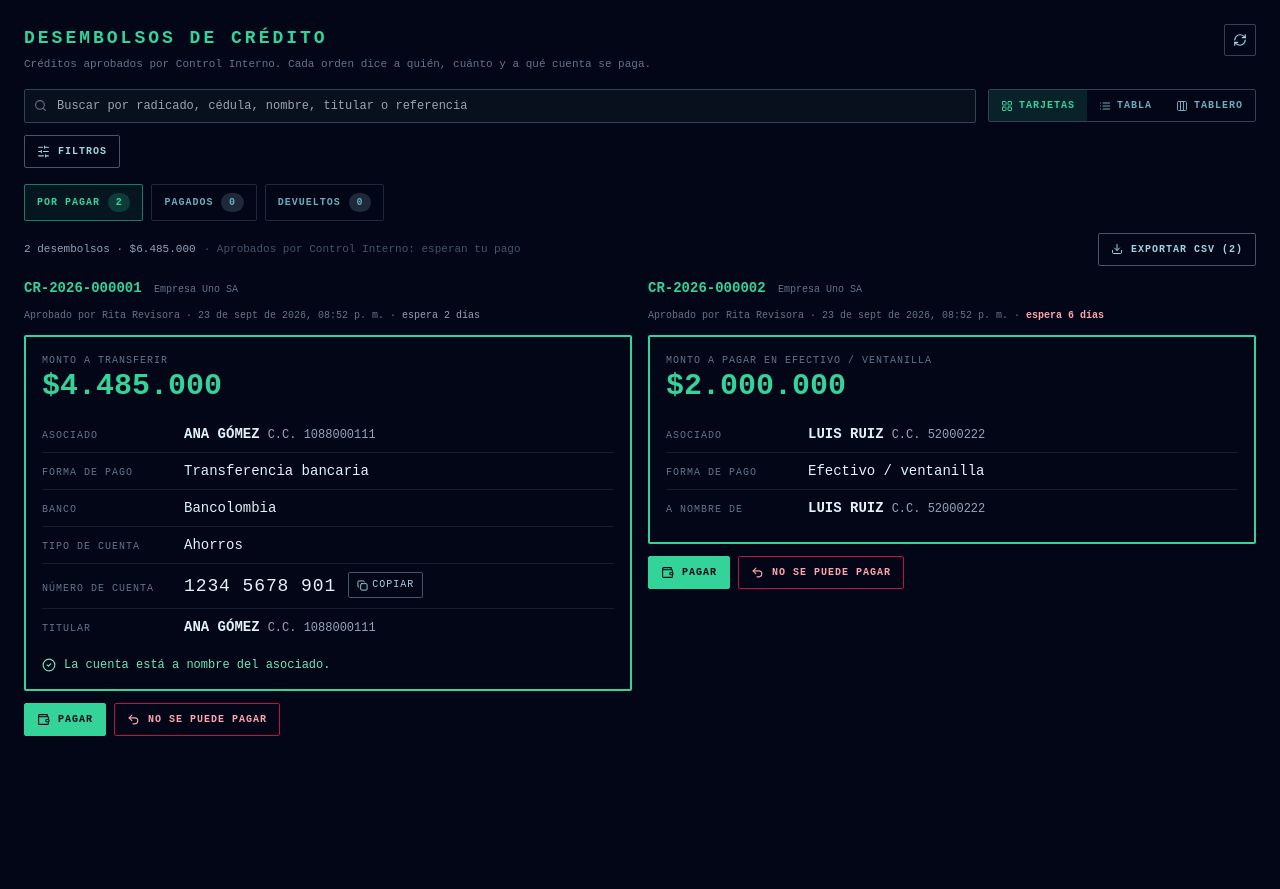
Test: Tesorería — búsqueda y filtros › trae las opciones de Tesorería y ofrece los filtros propios
Click the button "FILTROS" at (72, 151), box top-left (24, 134), bottom-right (120, 168)
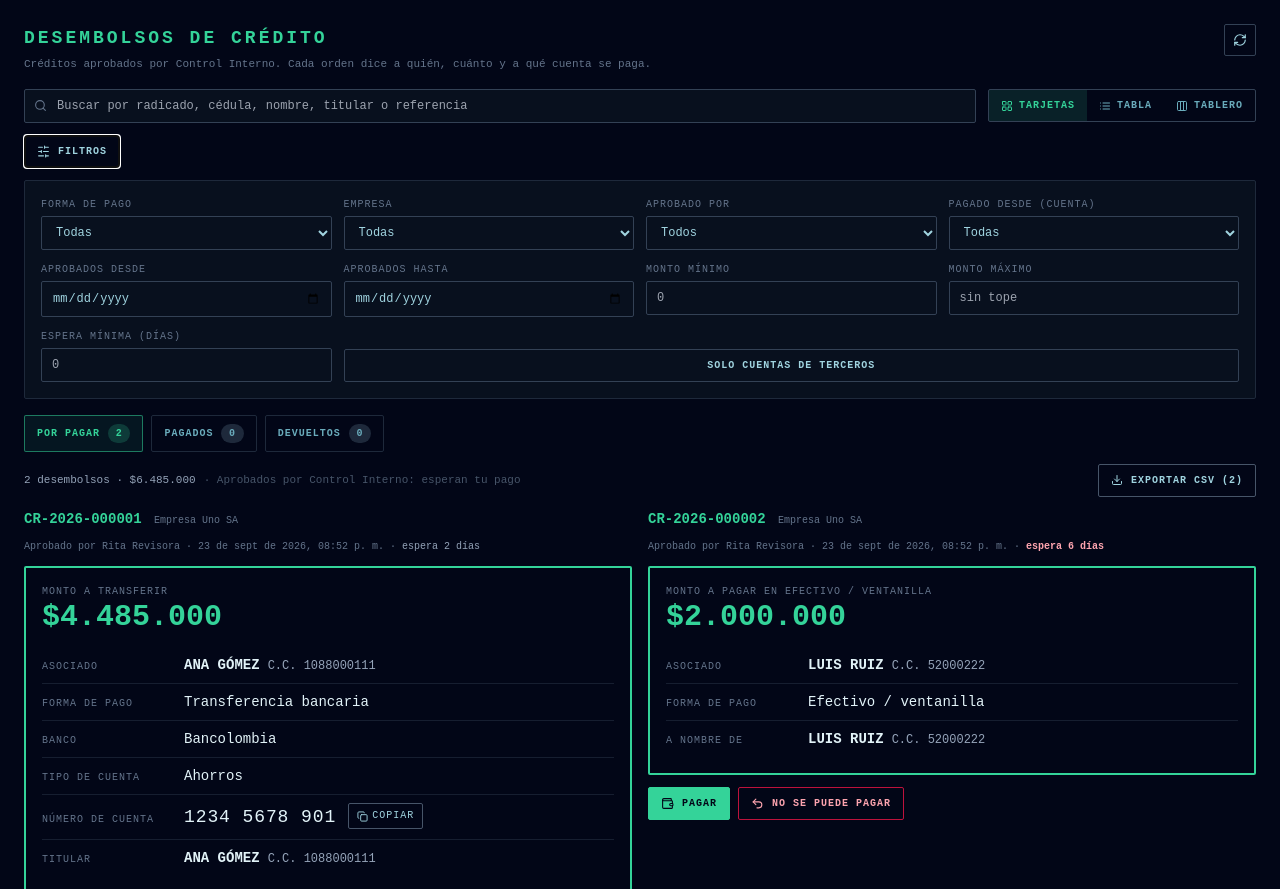
Expected: the dropdown labelled "FORMA DE PAGO" is shown, top-left (41, 216), bottom-right (332, 250)
Expected: the dropdown labelled "EMPRESA" is shown, top-left (344, 216), bottom-right (634, 250)
Expected: the dropdown labelled "APROBADO POR" is shown, top-left (646, 216), bottom-right (936, 250)
